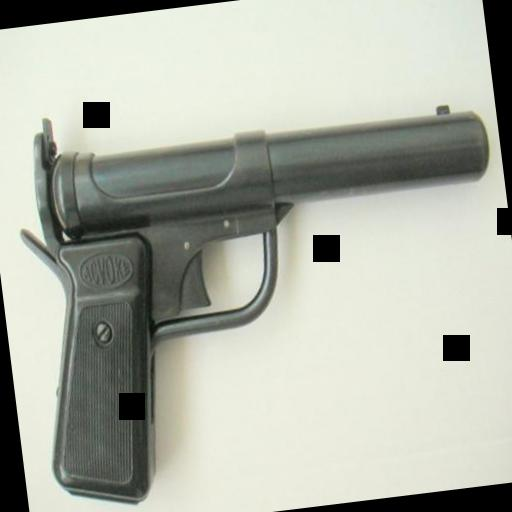Handgun: (4, 61, 512, 506)
